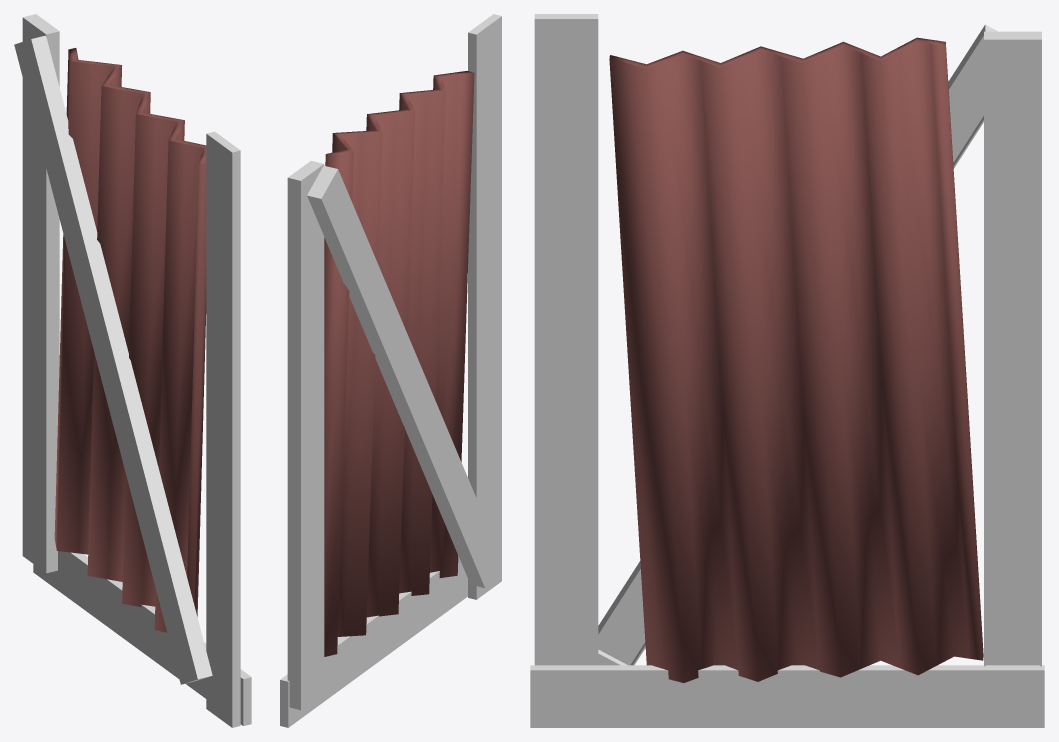
File: ScrapyardFence.fbx
The picture shows the model from 3 angles, left to right: view 1: azimuth 30°, elevation 25°; view 2: azimuth 150°, elevation 25°; view 3: azimuth 270°, elevation 25°; orthographic projection. The views are drawn at different scales.
Parts seen in each view (by area): view 1: FenceP5, FenceP1, FenceP2, FenceP4, FenceP3; view 2: FenceP5, FenceP4, FenceP1, FenceP2, FenceP3; view 3: FenceP5, FenceP2, FenceP4, FenceP3, FenceP1.
Part boxes in pixels (box(x1,y1,x2,y2)): FenceP5: box(54, 48, 206, 632); FenceP1: box(14, 35, 212, 684); FenceP2: box(206, 131, 240, 727); FenceP4: box(22, 14, 59, 573); FenceP3: box(33, 551, 251, 725); FenceP5: box(324, 71, 474, 656); FenceP4: box(287, 161, 324, 710); FenceP1: box(307, 165, 501, 587); FenceP2: box(468, 14, 501, 599); FenceP3: box(280, 556, 467, 727); FenceP5: box(609, 37, 983, 682); FenceP2: box(534, 14, 598, 665); FenceP4: box(984, 31, 1041, 666); FenceP3: box(530, 665, 1044, 727); FenceP1: box(598, 24, 997, 665).
Bounding box in the file's own units: 18.11 × 200 × 132.
